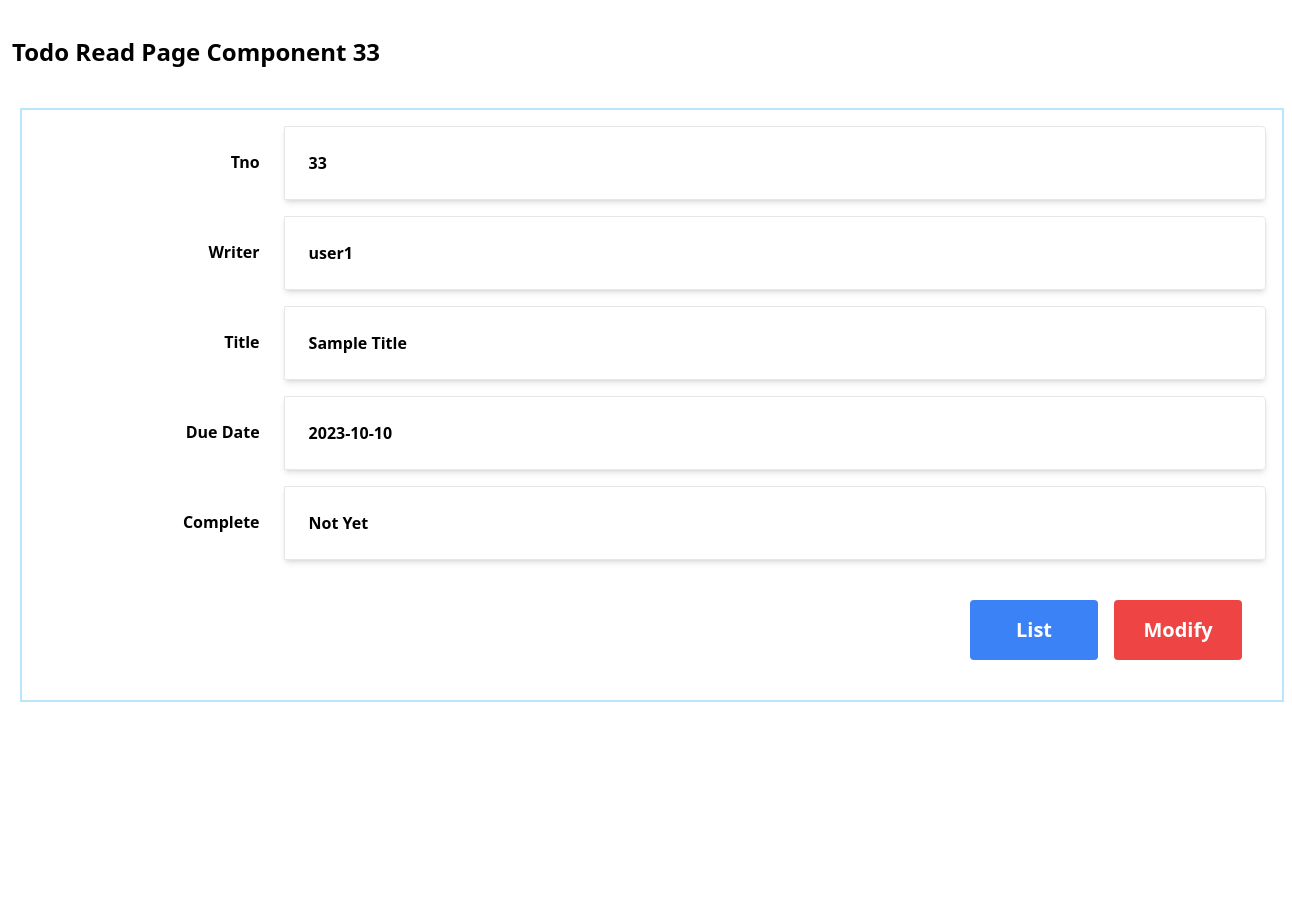
Test: preserves page and size from read to modify
Expected: the text "Sample Title" is shown, [284,306,1266,380]
Click the button "Modify": (1178,630) [1114,600,1242,660]
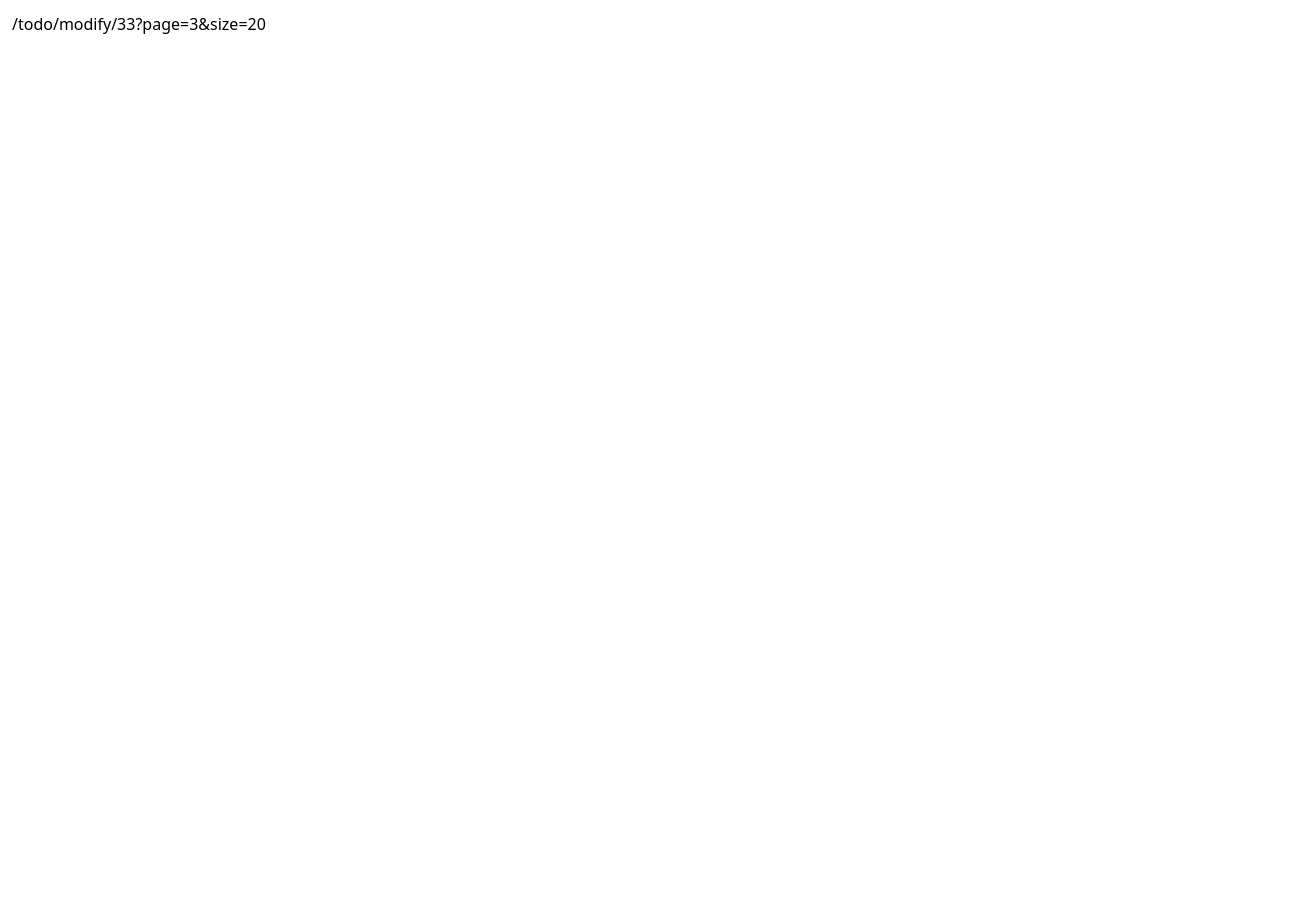
Expected: the text "/todo/modify/33?page=3&size=20" is shown, [12,13,266,35]
